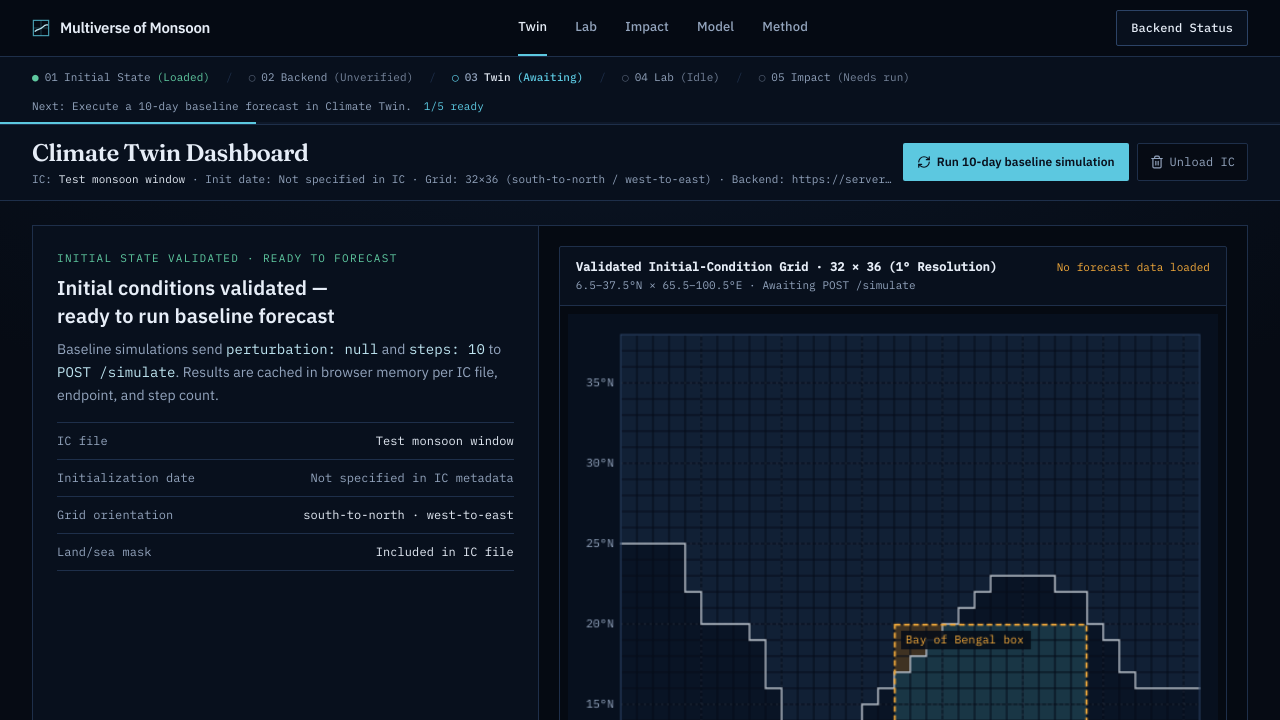
Phase 2A Climate Twin Dashboard (/twin) › runs a 10-day baseline simulation against mocked API, caches it, and supports interactive controls
This screenshot has width=1280, height=720.
Earlier steps of the test are not shown.
Later steps or results of the test are not shown.
Expected: the heading "Initial conditions validated — ready to run baseline forecast" is shown, [57,274,335,329]
Click the button "Run 10-day baseline simulation": (1016, 162) [903,143,1129,181]
(page scrolled)
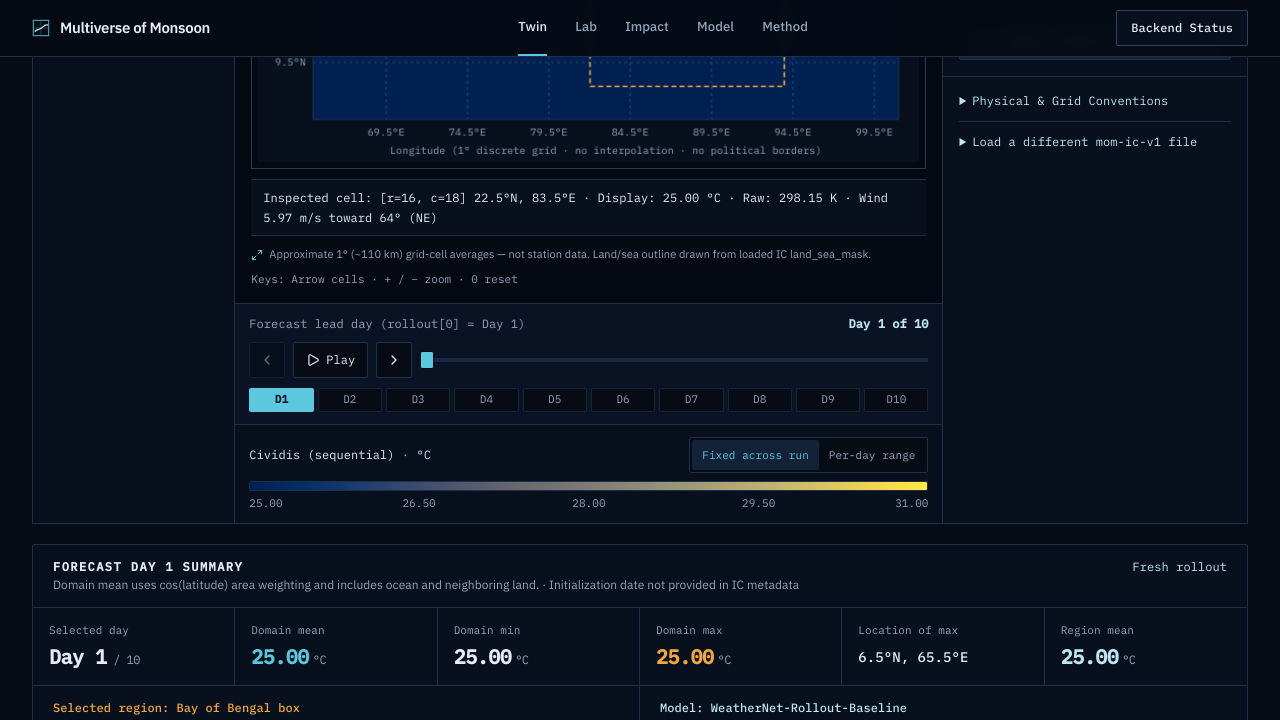
Result: the text "Model: WeatherNet-Rollout-Baseline" is shown at [660,700,907,715]
Click the button named "Next forecast day": (394, 360) [376,342,412,378]
(page scrolled)
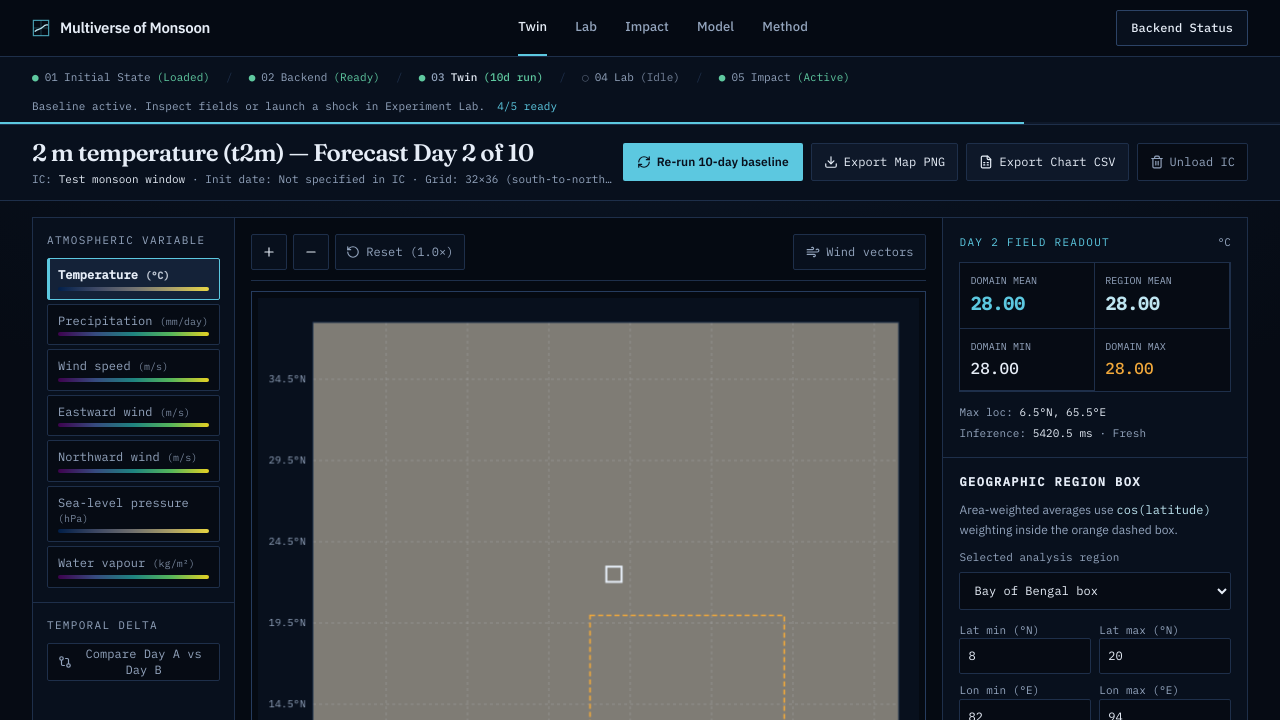
Result: the heading "2 m temperature (t2m) — Forecast Day 2 of 10" is shown at [32,137,613,169]
Click the button "Precipitation (mm/day)": (134, 324) [47,304,220,345]
(page scrolled)
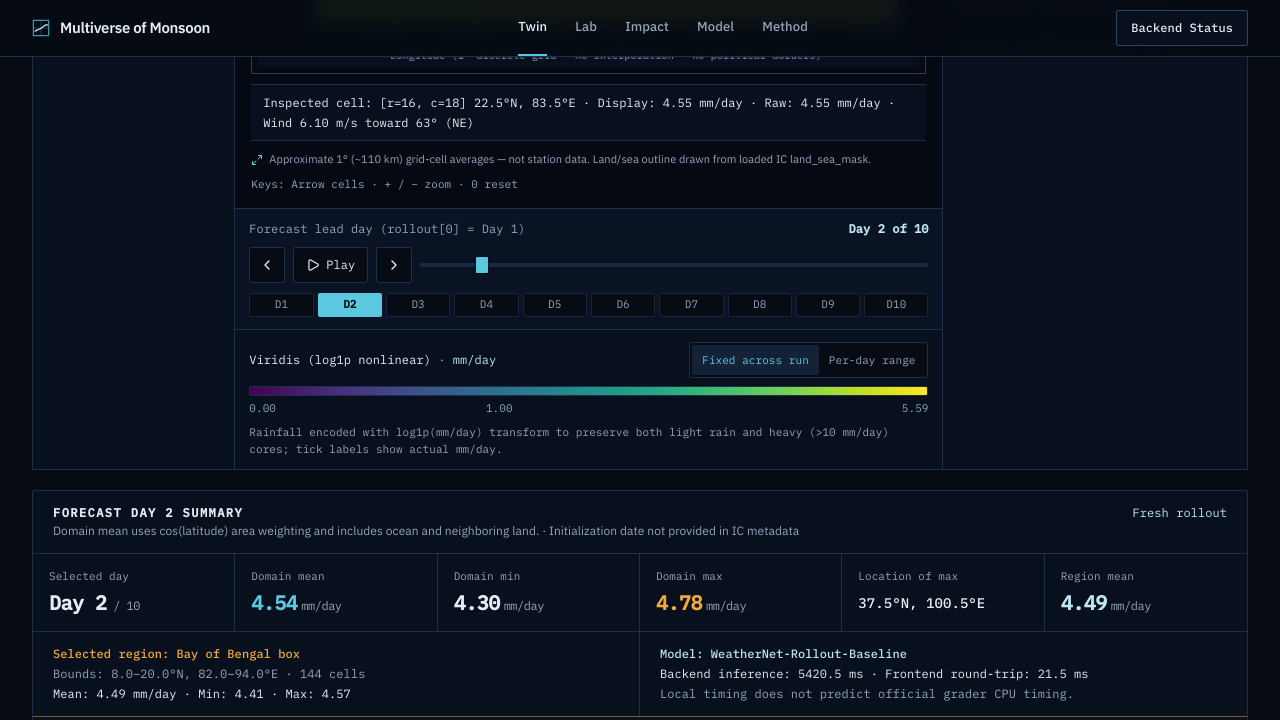
Result: the text "log1p(mm/day) transform" is shown at [249,425,889,456]
